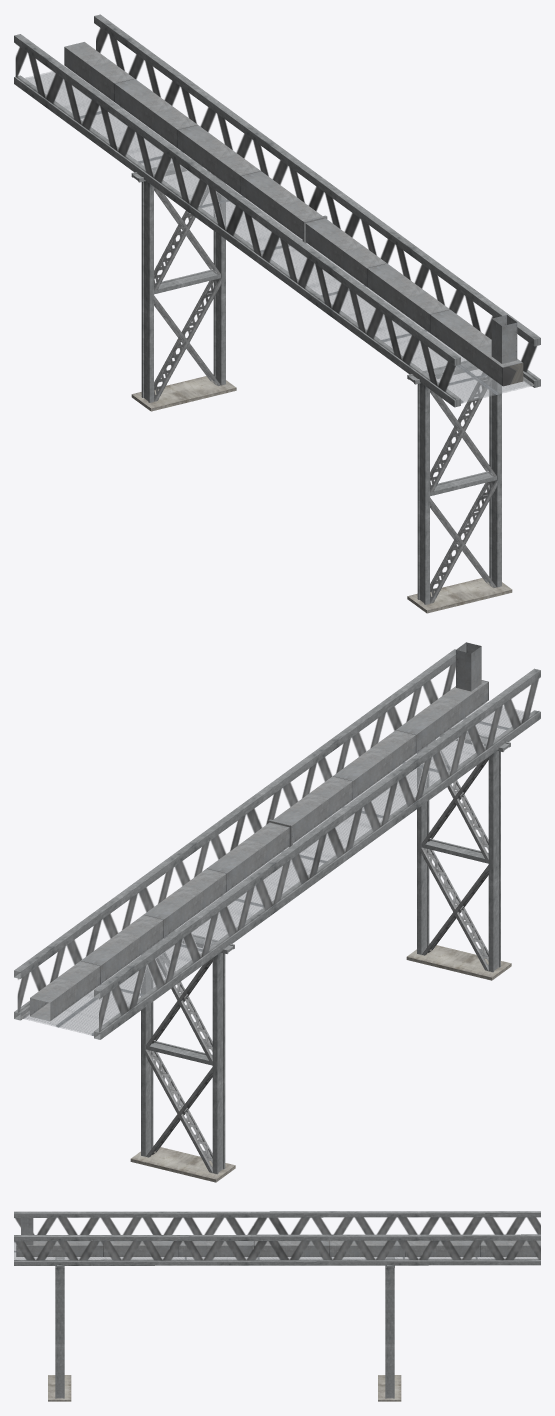
File: plant-metal5.glb
3 renders of one model, top to bottom at view 1: azimuth 30°, elevation 25°; view 2: azimuth 150°, elevation 25°; view 3: azimuth 270°, elevation 25°, orthographic. The views are drawn at different scales.
Visible parts, largest first — view 1: Object8934414; view 2: Object8934414; view 3: Object8934414.
Part boxes in pixels (<box>): Object8934414: <box>14,14,540,613</box>; Object8934414: <box>14,642,540,1182</box>; Object8934414: <box>14,1211,540,1401</box>.
Size of the model in its own units: 3.04 by 8.93 by 24.5.
Materials: 1 (1 with a texture image).
